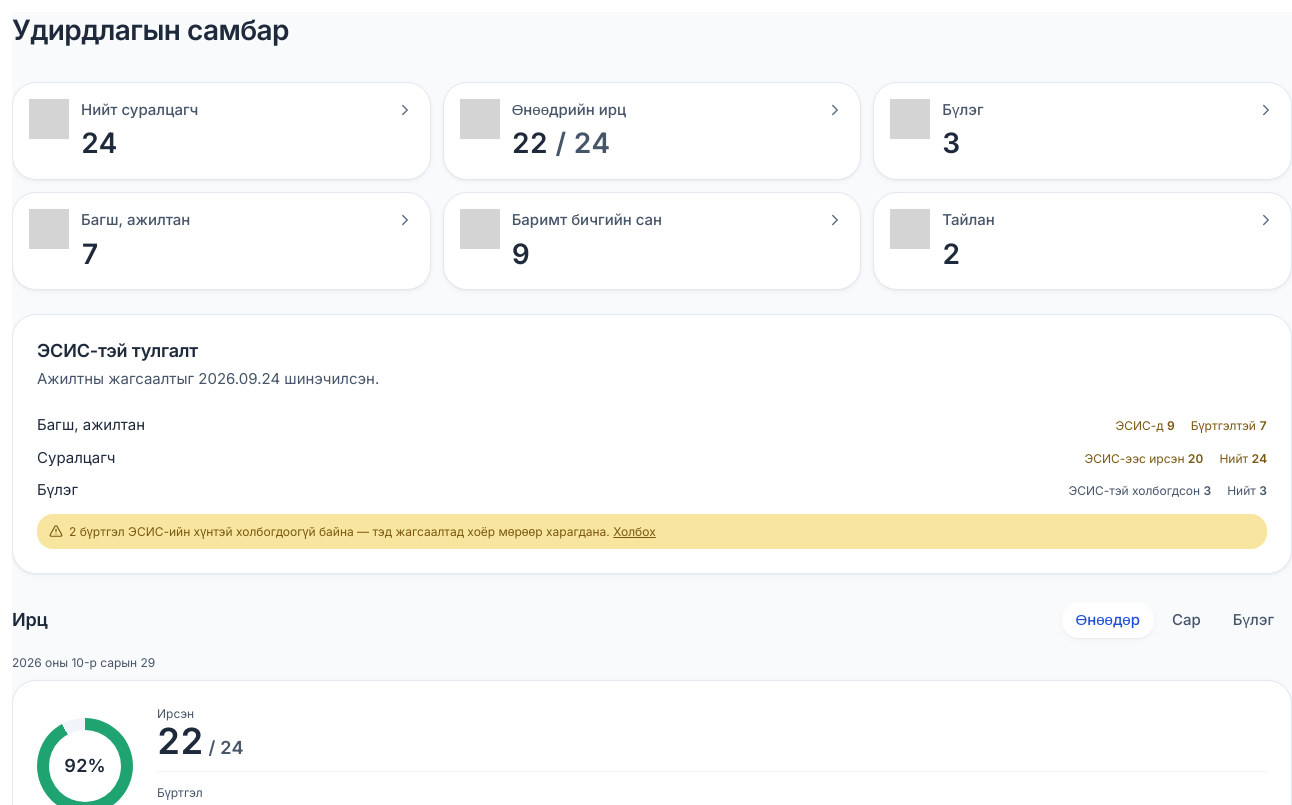
Scenario: the administration dashboard › omits half-day and other from the attendance summary
The width and height of the screenshot is (1292, 805).
The month's mix is the "Сар" tab of "Ирц" since 2026-09-25.
What coordinates should you click on to do the following:
click the tab "Сар"
I would click on:
 (1186, 620)
Its box is [1158,602,1215,638].
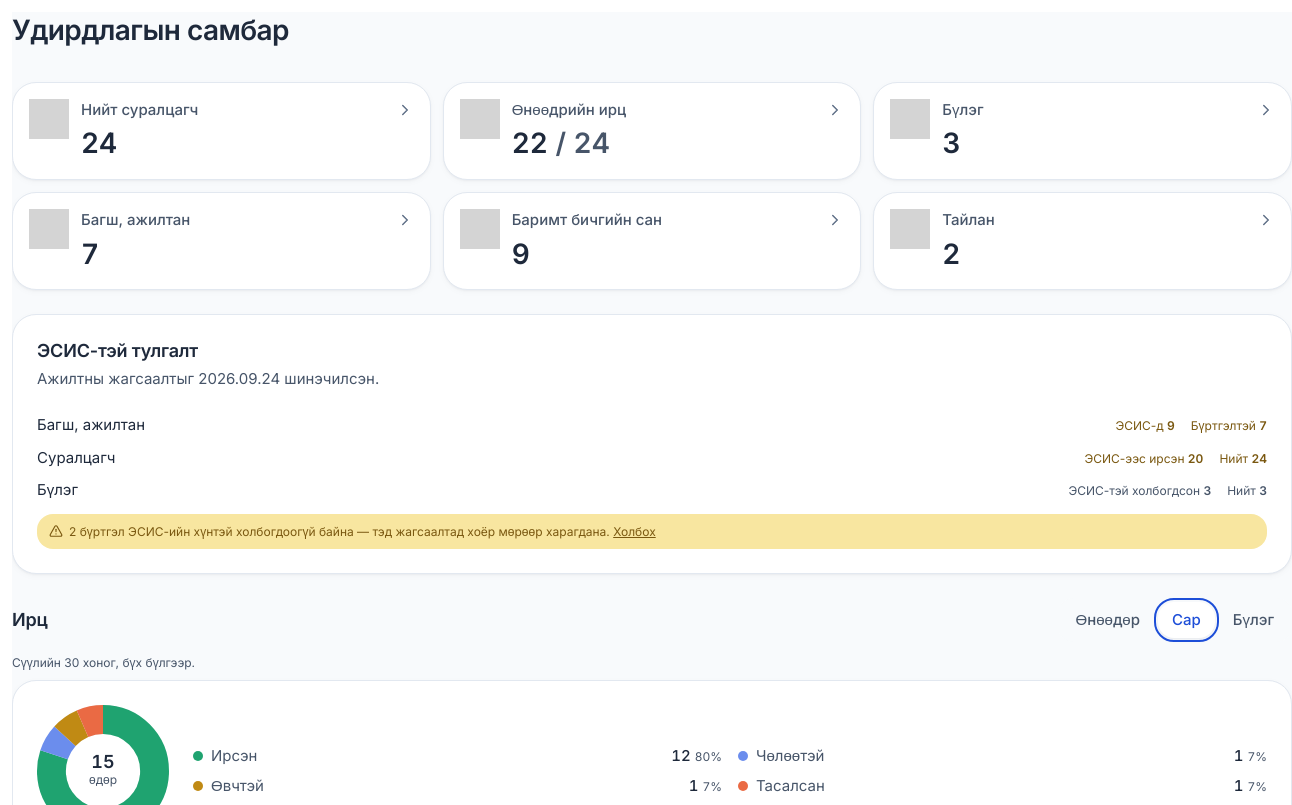
Check: the text "Чөлөөтэй" is shown, box [756,746,824,765]
Check: the text "Өвчтэй" is shown, box [211,776,264,795]
Check: the text "Тасалсан" is shown, box [756,776,825,795]
